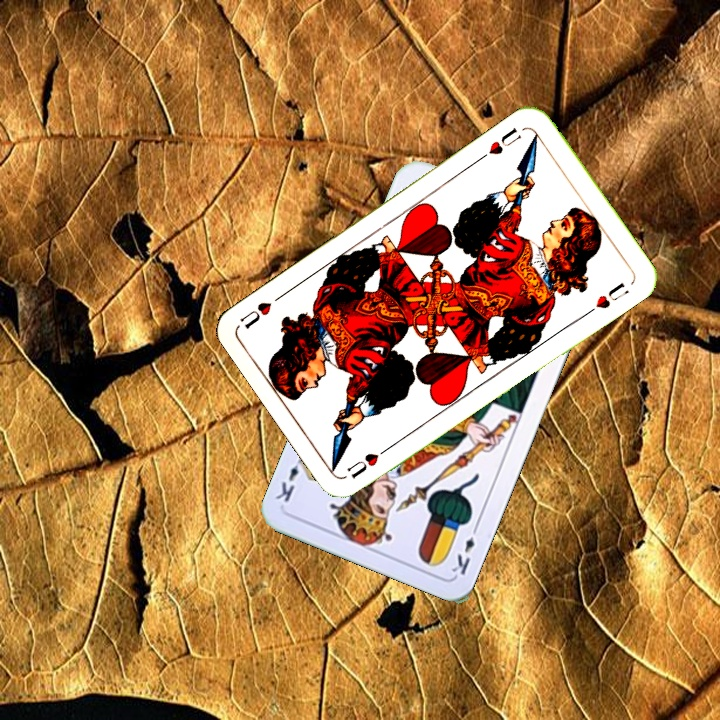EK: (447, 520, 482, 578)
HU: (342, 441, 394, 482), (484, 123, 524, 158)
